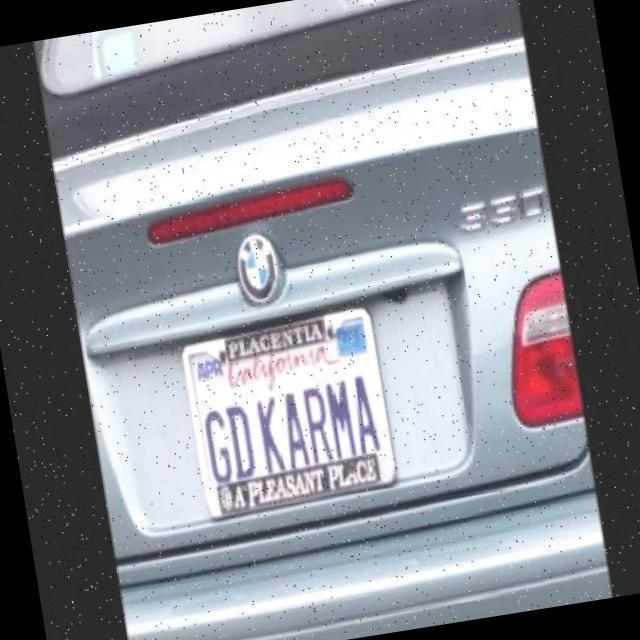license_plate: (180, 307, 396, 515)
